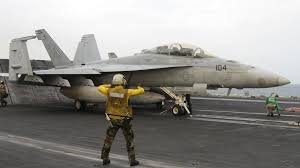fighter: (4, 26, 293, 123)
